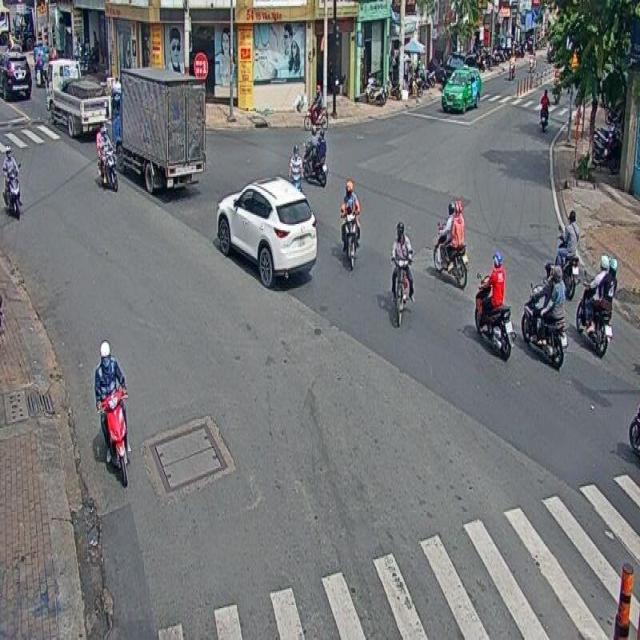car: (216, 176, 316, 286)
motorcycle: (94, 341, 128, 488), (521, 262, 565, 369), (575, 254, 617, 360), (473, 250, 512, 361), (433, 200, 469, 288), (391, 220, 414, 328), (340, 180, 360, 271), (303, 125, 327, 187), (2, 145, 22, 219), (97, 126, 118, 194), (303, 84, 328, 131)
truck: (110, 64, 206, 194)
